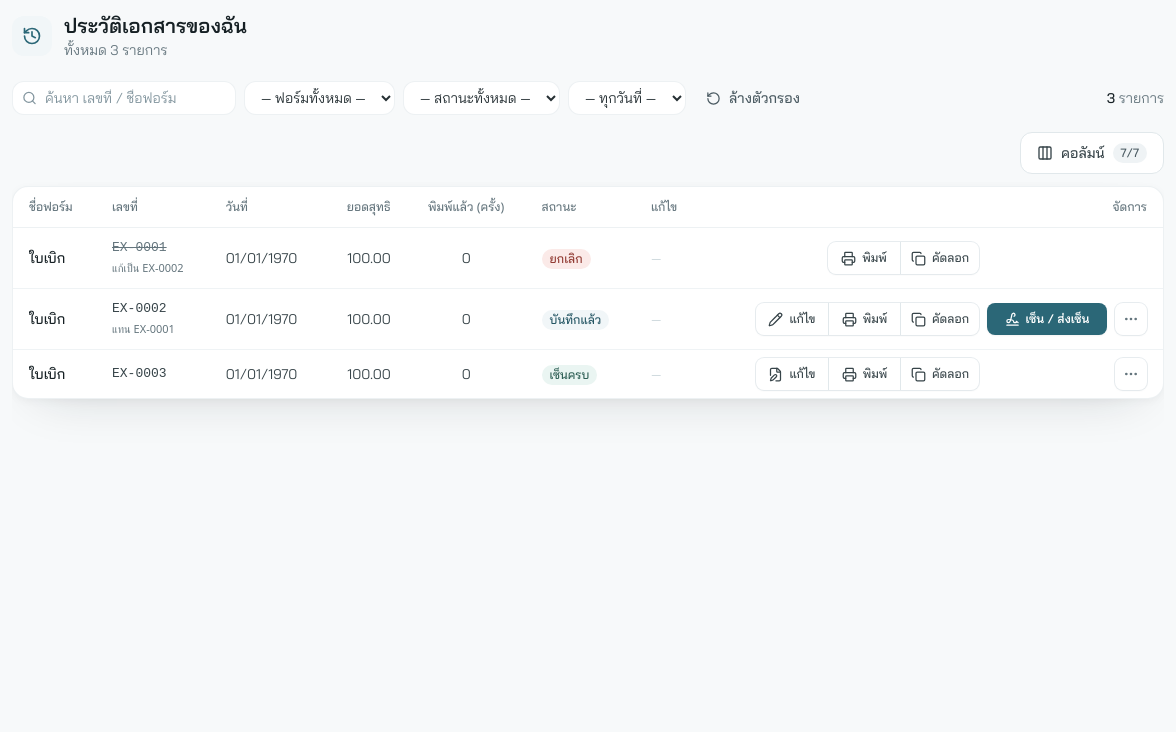
Test: HistoryPage — cancelled and corrected documents › corrects a document others have signed as a new one, and can cancel it
The image size is (1176, 732).
Click the button named "ตัวเลือกเพิ่มเติม": (1131, 374) [1115,358,1147,390]
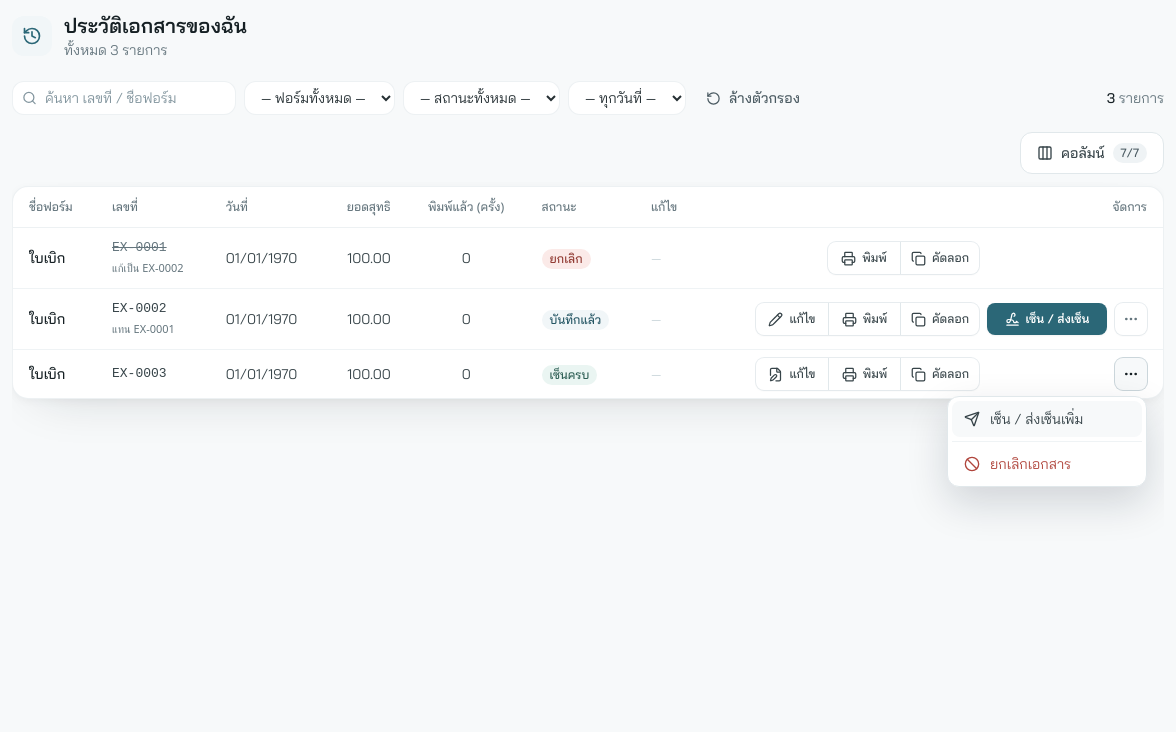
Result: the menu item "ยกเลิกเอกสาร" is shown at [952,446,1142,482]
